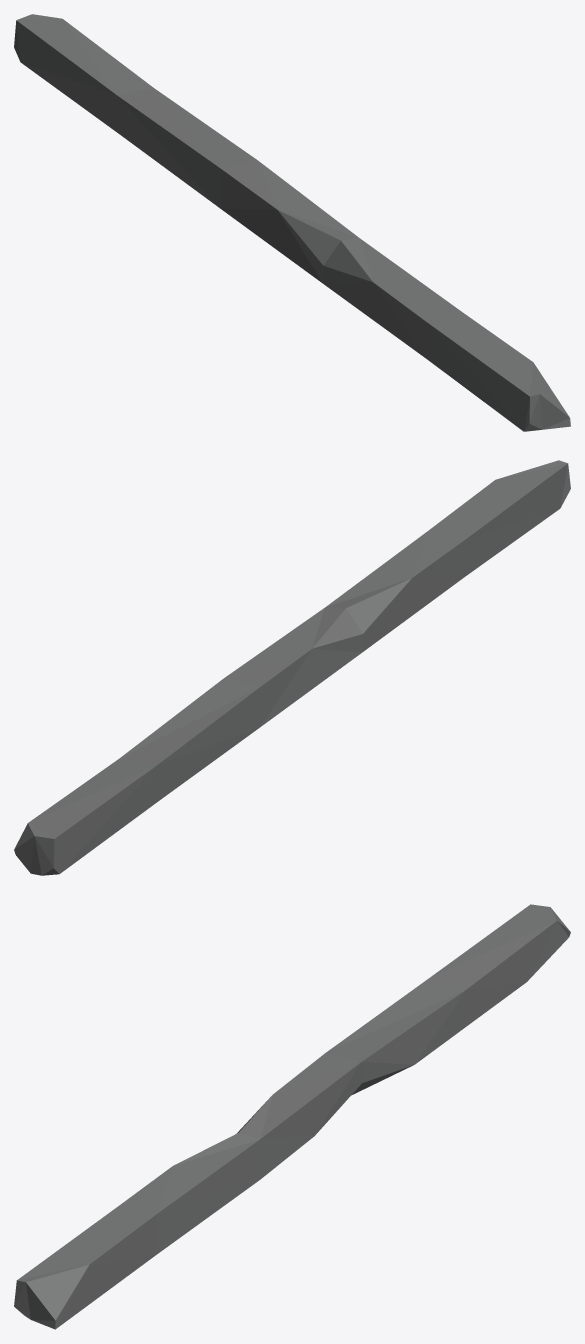
File: SFFA_Rod_003.fbx
The picture shows the model from 3 angles, top to bottom: view 1: azimuth 30°, elevation 25°; view 2: azimuth 150°, elevation 25°; view 3: azimuth 330°, elevation 25°; orthographic projection.
Visible parts, largest first — view 1: SFFA_Rod_003; view 2: SFFA_Rod_003; view 3: SFFA_Rod_003.
Part boxes in pixels (bbox=[...]): SFFA_Rod_003: bbox=[14, 14, 570, 431]; SFFA_Rod_003: bbox=[14, 460, 570, 875]; SFFA_Rod_003: bbox=[14, 904, 570, 1329].
Size of the model in its own units: 4.76 by 4.61 by 103.
